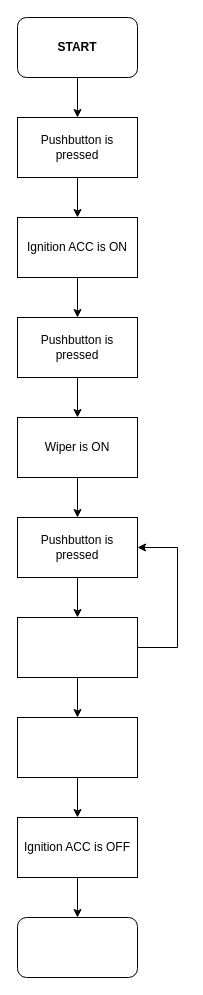
The diagram is 203 pixels wide and 995 high, and some of its shapes have lost their labels. Here are the shapes that lost their labels. From the top down, the centre of each, then its label:
At [77,647]: "Speed of the wiper increases".
At [77,747]: "Wiper stops".
At [77,947]: "END".
